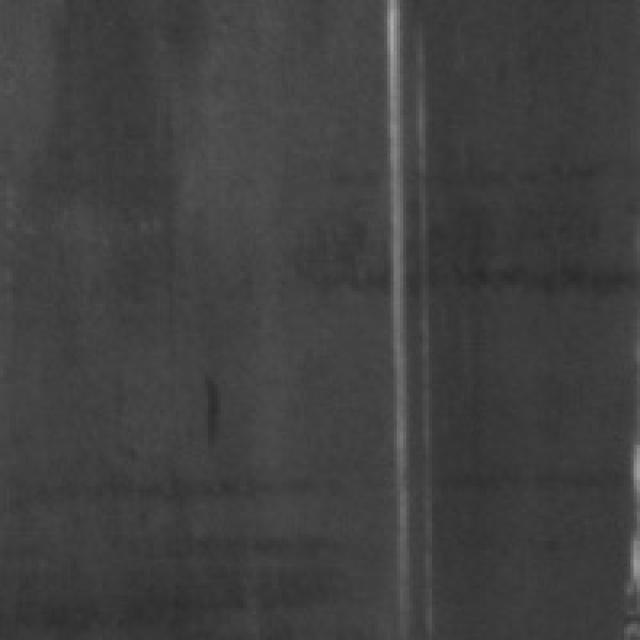scratches: (384, 0, 448, 624)
